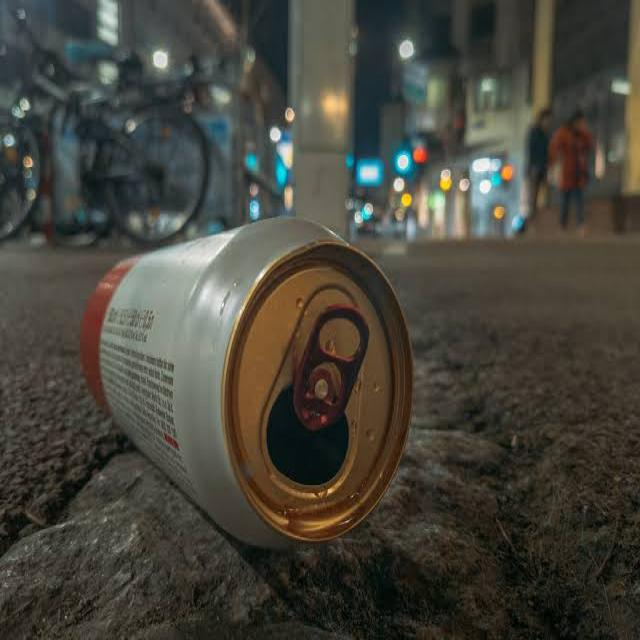can: (66, 219, 410, 563)
